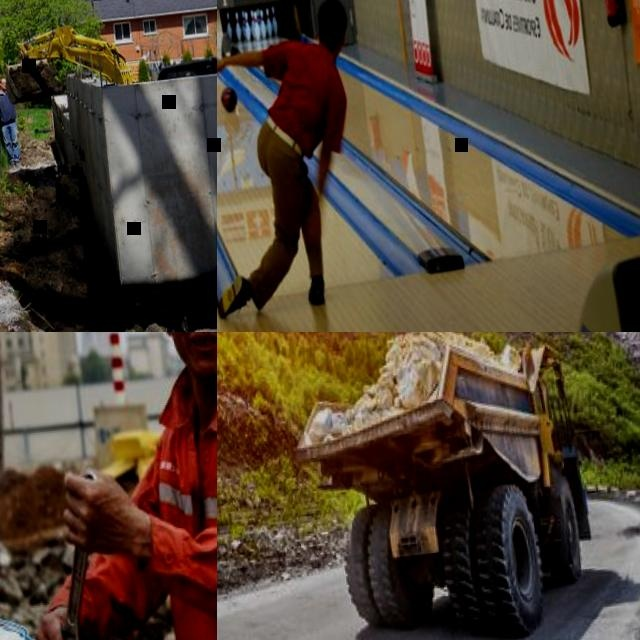NO-Hardhat: (316, 0, 348, 31), (0, 75, 6, 83)
NO-Mask: (175, 332, 217, 376), (0, 84, 7, 91)
NO-Safety Vest: (261, 39, 344, 152), (0, 88, 17, 123)
Person: (0, 332, 217, 640), (217, 0, 377, 321), (0, 74, 23, 165)
Safety Vest: (139, 332, 217, 640)
machinery: (288, 332, 601, 640), (0, 15, 135, 107)
vehicle: (154, 49, 217, 83)
